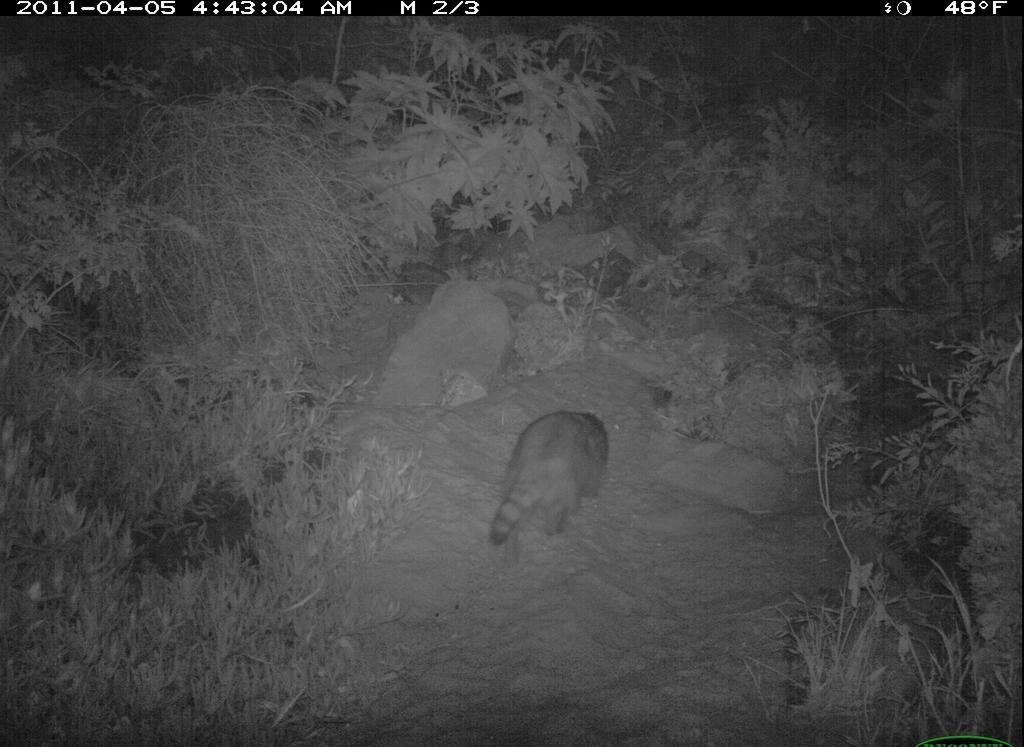raccoon: (482, 401, 633, 568)
